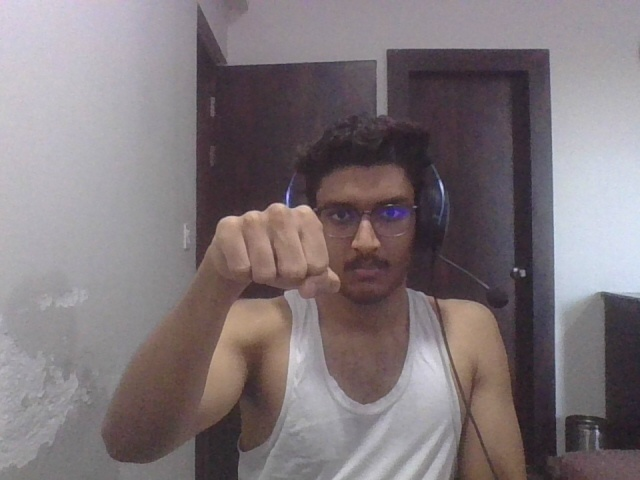Yes: (204, 197, 351, 303)
